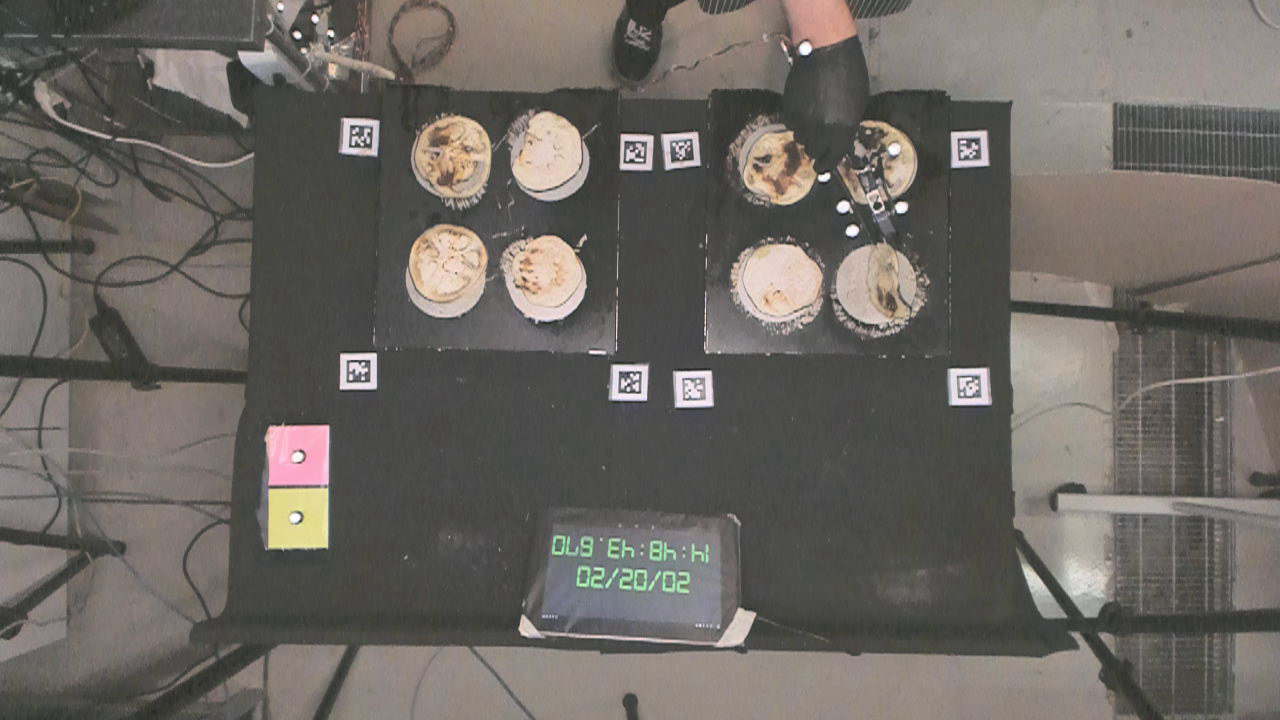eggplant: (411, 115, 494, 200), (409, 224, 486, 307), (744, 242, 822, 320), (746, 129, 815, 209), (511, 240, 587, 308), (516, 111, 581, 190), (868, 239, 912, 322)
marker: (267, 424, 329, 484)
